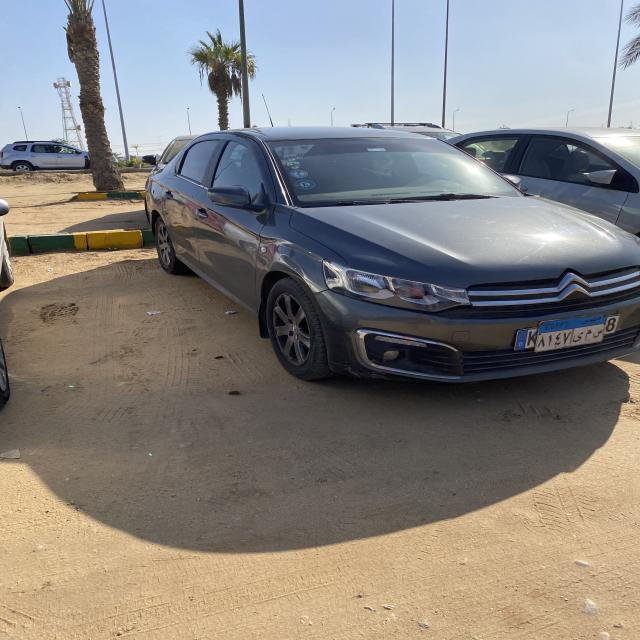License Plate: (535, 312, 607, 352)
